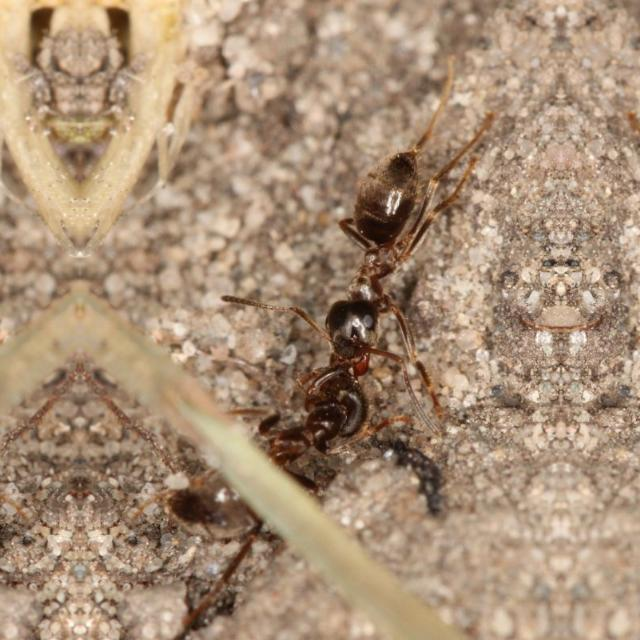Lasius: (286, 100, 490, 368), (171, 372, 405, 576)
